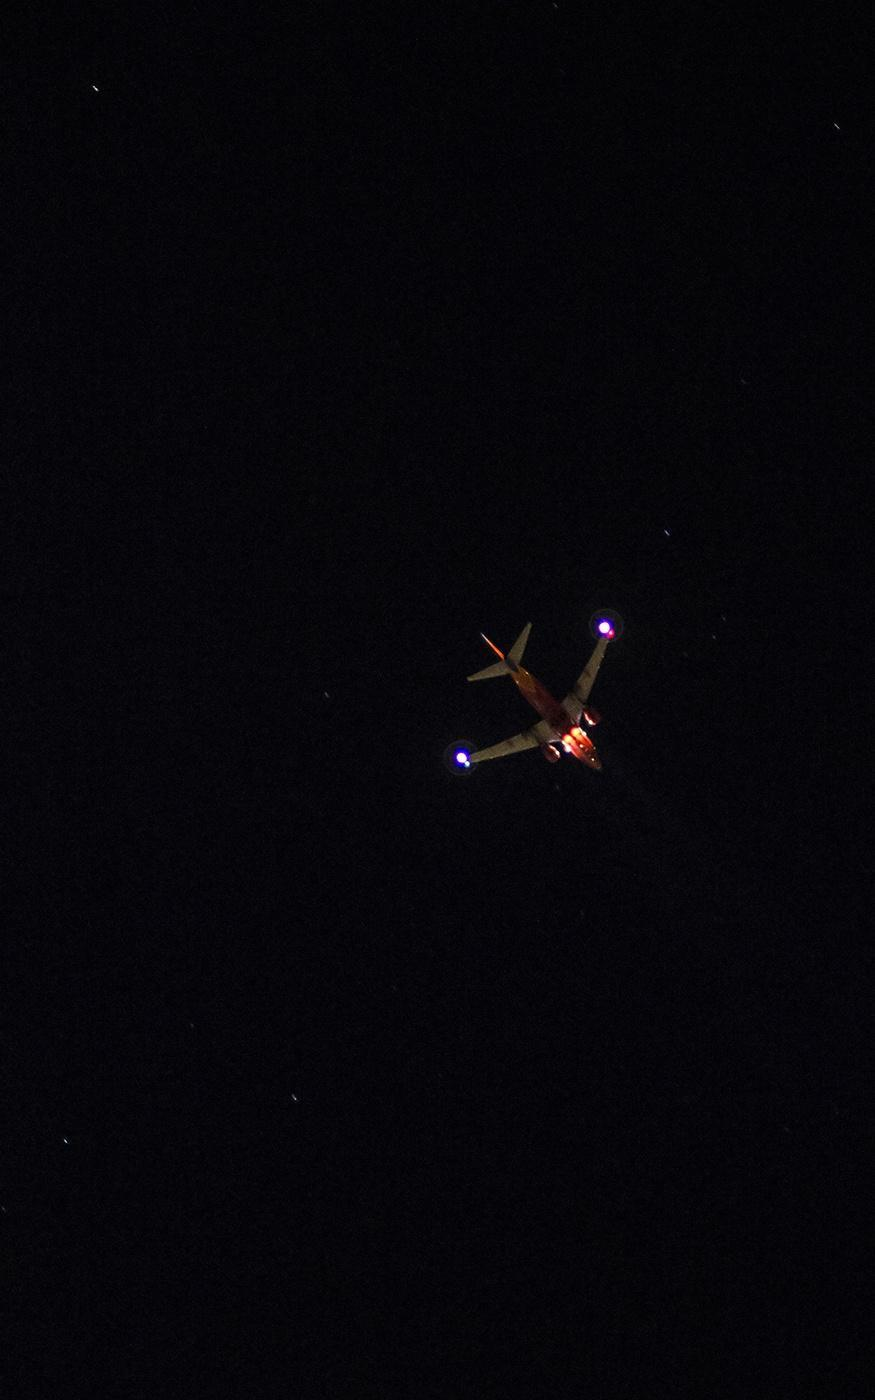Plane: (429, 579, 642, 815)
